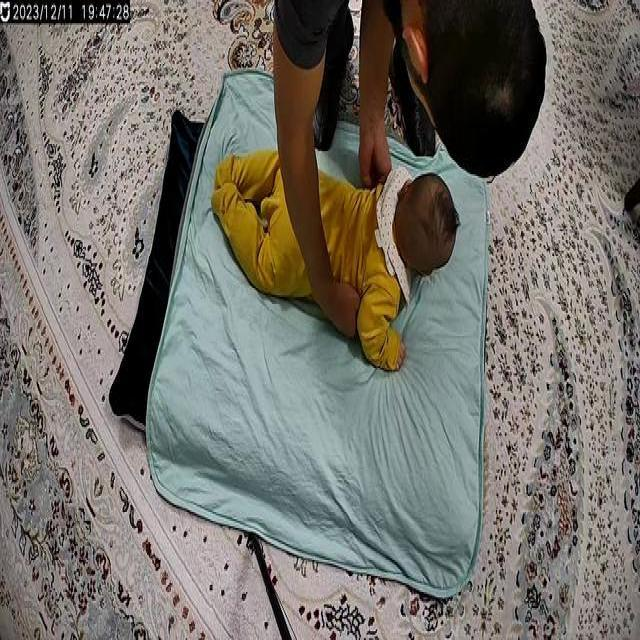baby: (208, 144, 462, 386)
